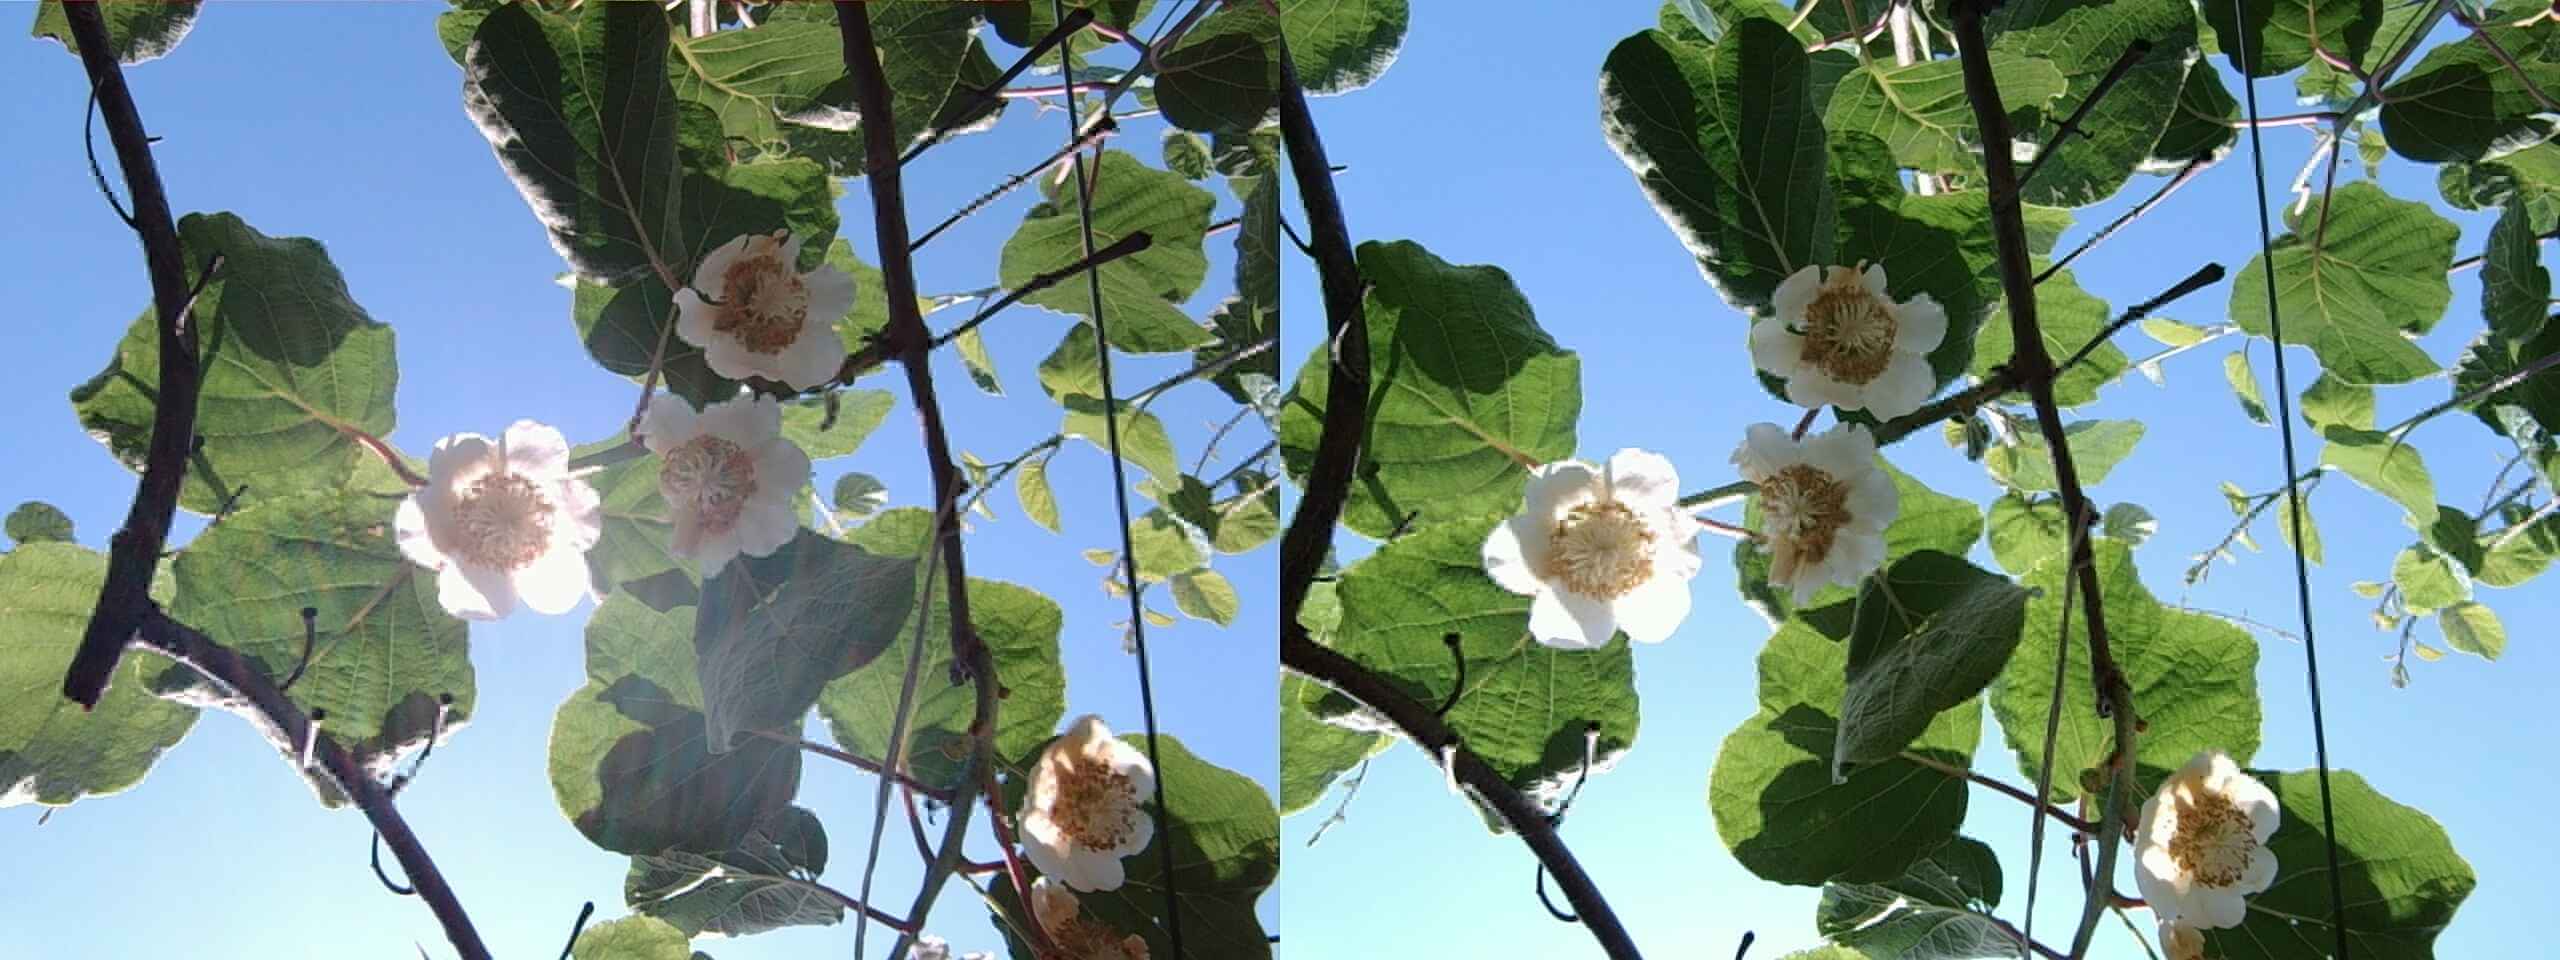flower: (1486, 439, 1716, 645), (390, 410, 611, 624), (1709, 403, 1905, 607), (1740, 251, 1949, 413), (629, 393, 815, 567), (669, 224, 854, 393), (2126, 748, 2292, 927), (1009, 712, 1164, 891)
